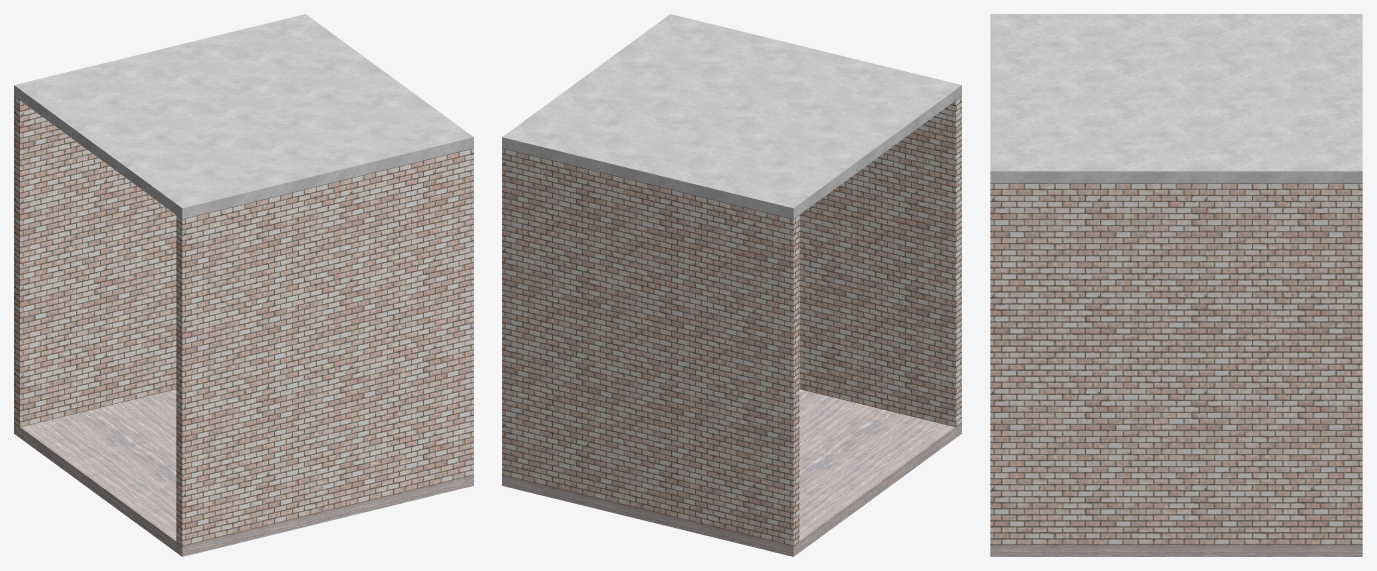
Rendered from OLD_DeadEnd.obj.
3 renders of one model, left to right at view 1: azimuth 30°, elevation 25°; view 2: azimuth 150°, elevation 25°; view 3: azimuth 270°, elevation 25°, orthographic. The views are drawn at different scales.
Parts seen in each view (by area): view 1: Walls1, Ceiling1, Floor1; view 2: Walls1, Ceiling1, Floor1; view 3: Walls1, Ceiling1, Floor1.
Boxes of the visible parts, x1=… form: Walls1: x1=14, y1=96, x2=473, y2=545; Ceiling1: x1=14, y1=14, x2=473, y2=218; Floor1: x1=14, y1=389, x2=473, y2=556; Walls1: x1=502, y1=96, x2=961, y2=545; Ceiling1: x1=502, y1=14, x2=961, y2=218; Floor1: x1=502, y1=389, x2=961, y2=556; Walls1: x1=990, y1=183, x2=1362, y2=544; Ceiling1: x1=990, y1=14, x2=1362, y2=183; Floor1: x1=990, y1=545, x2=1362, y2=556.
Bounding box in the file's own units: 28 × 32 × 28.
